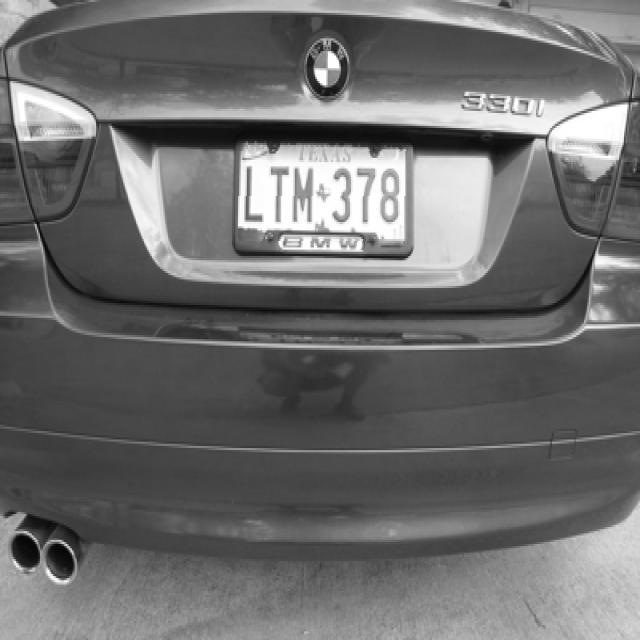licence: (235, 128, 410, 250)
